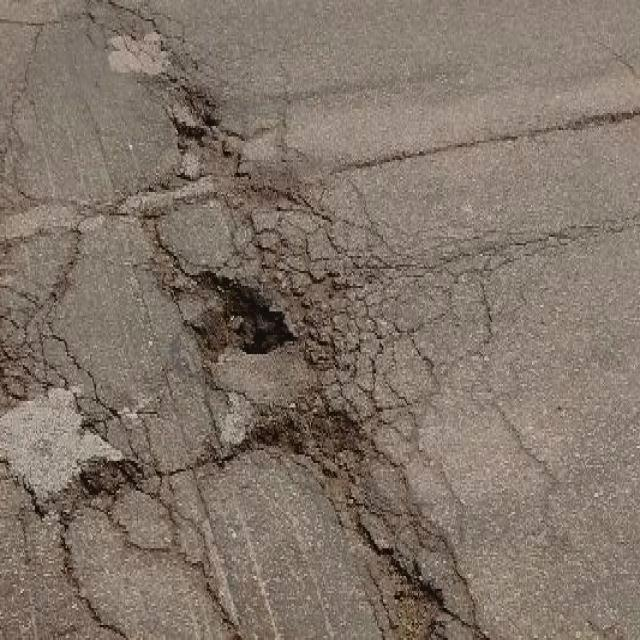Pothole: (203, 267, 299, 365), (255, 399, 363, 459), (383, 561, 451, 638), (166, 81, 222, 156), (74, 454, 142, 510)
